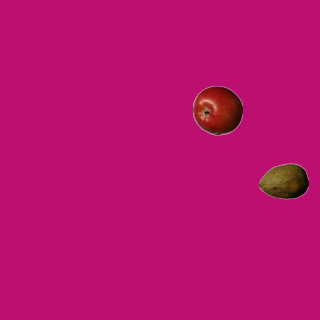Apple Braeburn: (192, 85, 242, 135)
Papaya: (258, 156, 308, 206)
